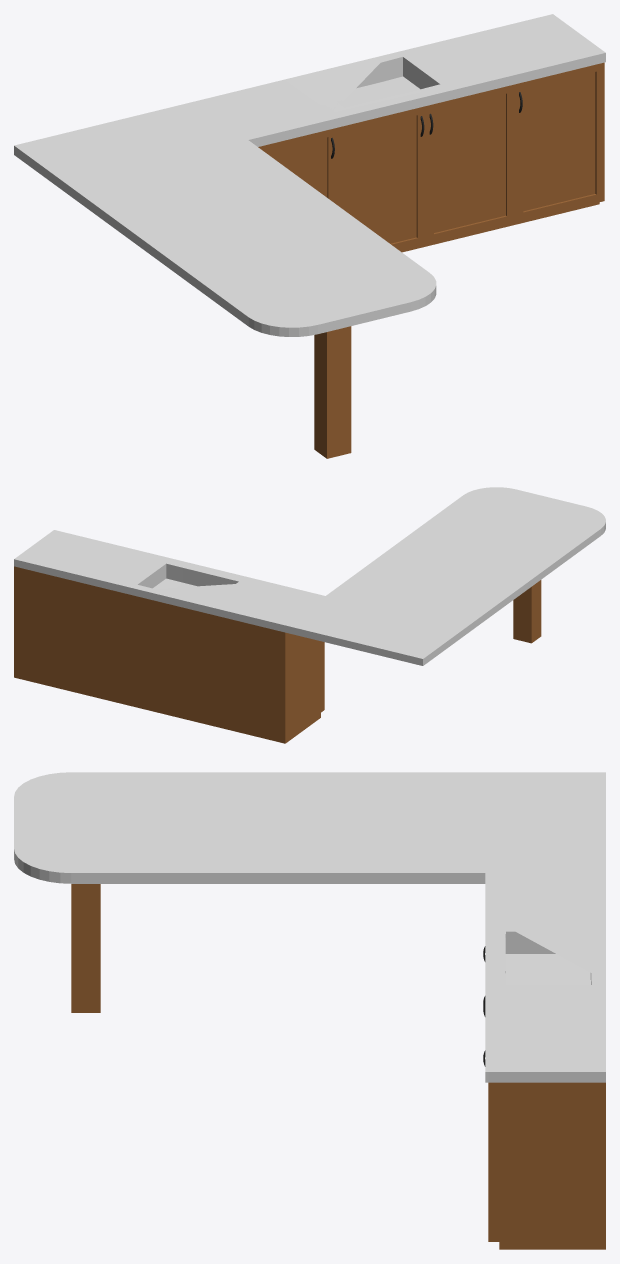
The model's file is furniture2.fbx.
The picture shows the model from 3 angles, top to bottom: view 1: azimuth 30°, elevation 25°; view 2: azimuth 150°, elevation 25°; view 3: azimuth 270°, elevation 25°; orthographic projection. The views are drawn at different scales.
Visible parts, largest first — view 1: Cabinet.003; view 2: Cabinet.003; view 3: Cabinet.003.
Part boxes in pixels (bbox=[...]): Cabinet.003: bbox=[14, 14, 605, 458]; Cabinet.003: bbox=[14, 487, 605, 743]; Cabinet.003: bbox=[14, 772, 605, 1249].
Size of the model in its own units: 912 by 260 by 761.
